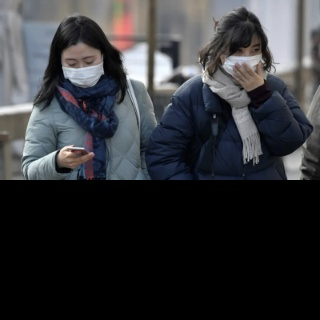with_mask: (221, 42, 263, 79), (61, 52, 104, 86)
